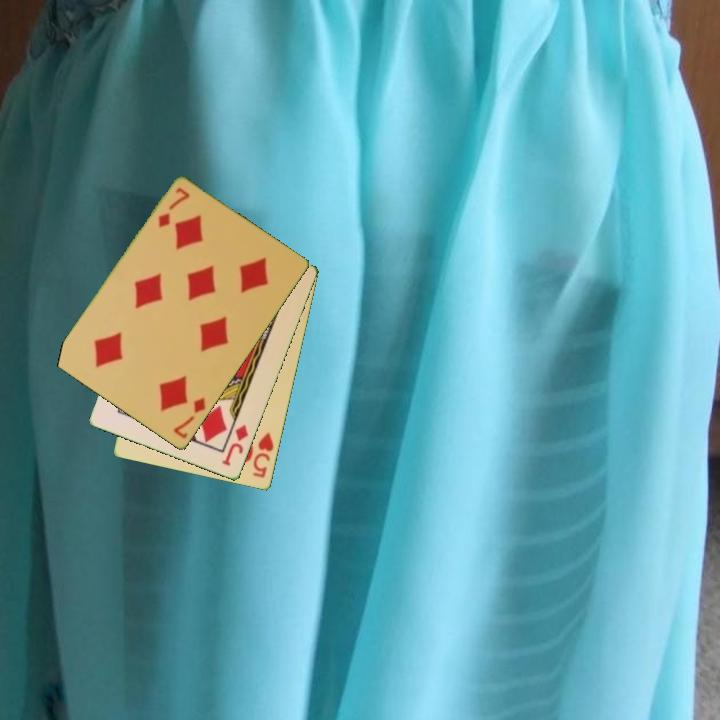5h: (250, 429, 277, 481)
7d: (170, 394, 209, 442), (155, 184, 193, 231)
Jd: (218, 421, 251, 469)
